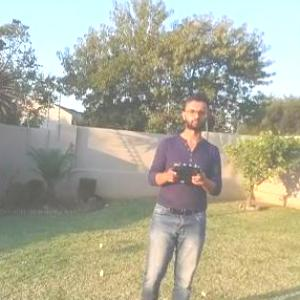follow: (134, 85, 226, 299)
